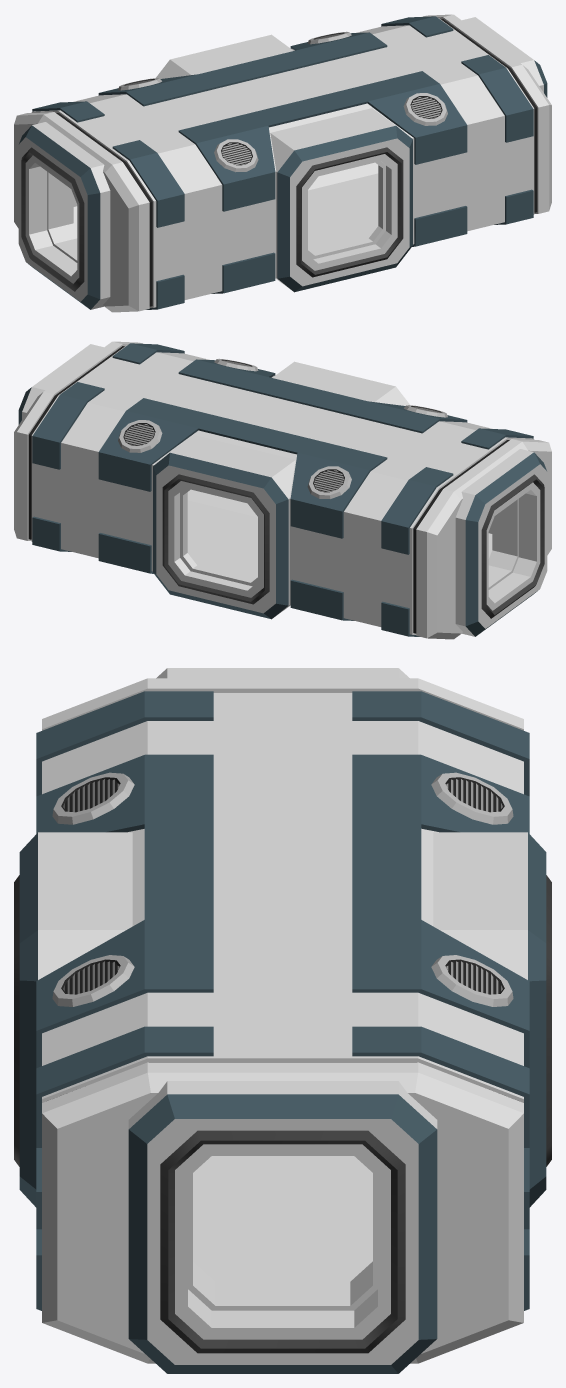
The model's file is section_004.fbx.
The picture shows the model from 3 angles, top to bottom: view 1: azimuth 30°, elevation 25°; view 2: azimuth 150°, elevation 25°; view 3: azimuth 270°, elevation 25°; orthographic projection. The views are drawn at different scales.
Visible parts, largest first — view 1: section_004; view 2: section_004; view 3: section_004.
Boxes of the visible parts, x1,y1,x2,y2 form: section_004: (14,14,551,312); section_004: (14,341,551,639); section_004: (14,668,551,1373).
Bounding box in the file's own units: 1318 × 670 × 410.
